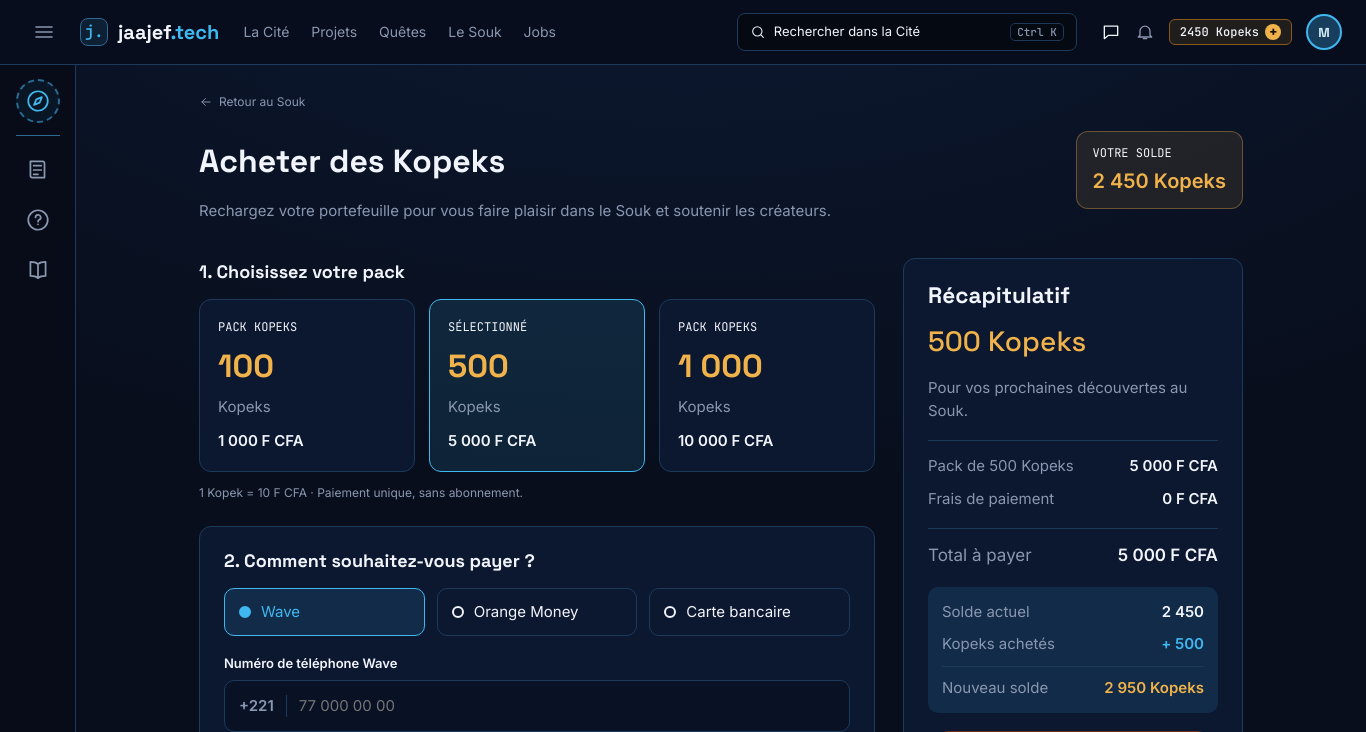
Test: Buy Kopeks › updates the summary when another pack is chosen
Click the radio button labelled "PACK KOPEKS 1 000 Kopeks 10 000 F CFA".
click(767, 385)  # box [659,298,875,472]
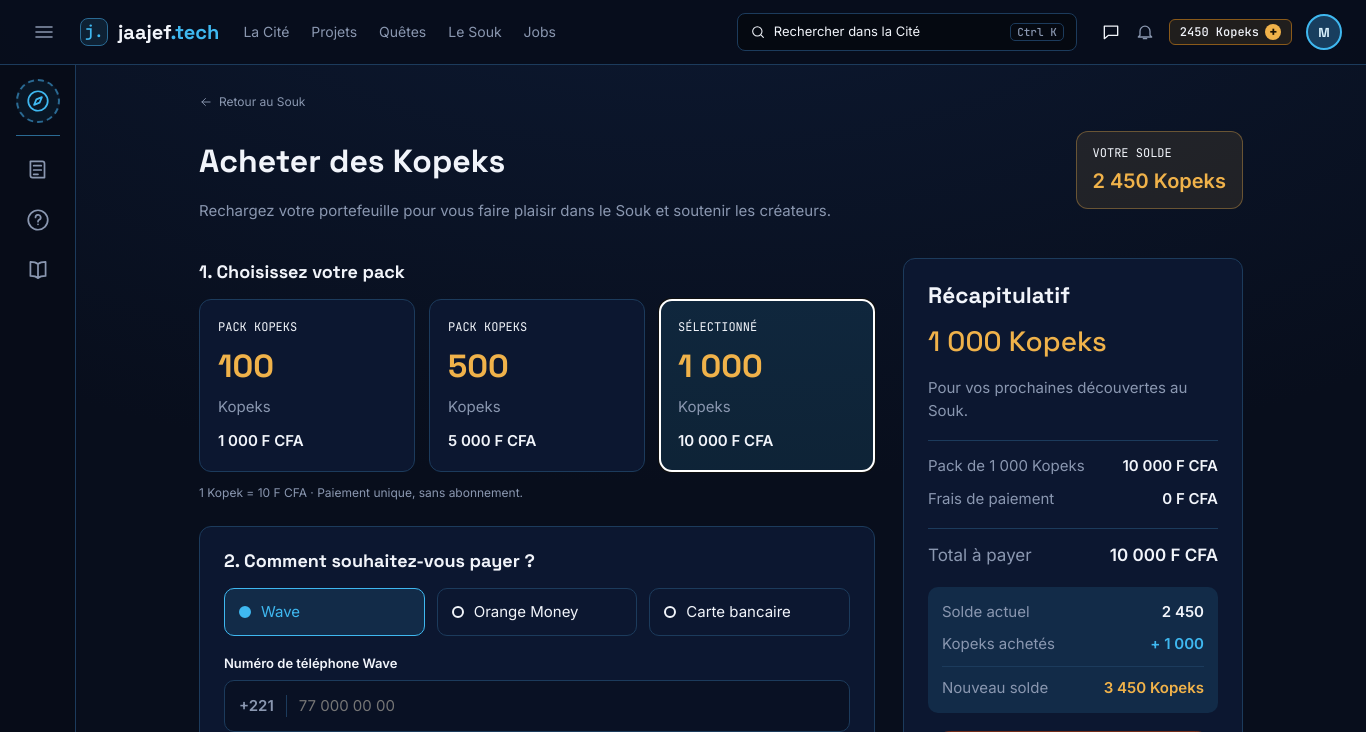
expect the text "3 450 Kopeks" is shown: met, box [1104,677,1204,699]
